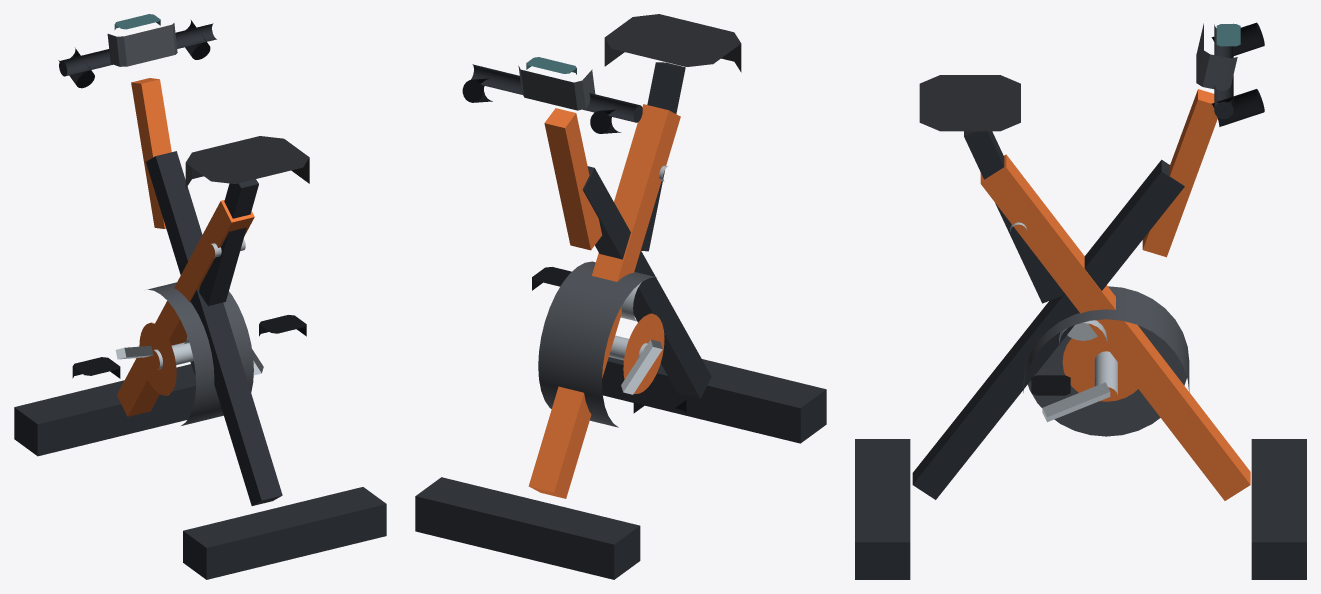
The model's file is current-fold-bike.glb.
3 renders of one model, left to right at view 1: azimuth 30°, elevation 25°; view 2: azimuth 150°, elevation 25°; view 3: azimuth 270°, elevation 25°, orthographic. The views are drawn at different scales.
Visible parts, largest first — view 1: Graphite powder coat parts, Burnt orange folding frame parts, Flywheel housing parts, Saddle upholstery parts, Black rubber parts, Brushed hardware parts; view 2: Graphite powder coat parts, Burnt orange folding frame parts, Flywheel housing parts, Saddle upholstery parts, Black rubber parts, Brushed hardware parts, Console display parts; view 3: Graphite powder coat parts, Burnt orange folding frame parts, Flywheel housing parts, Saddle upholstery parts, Brushed hardware parts, Black rubber parts.
Part boxes in pixels (x1,y1,x2,y2): Graphite powder coat parts: (14, 23, 386, 579); Burnt orange folding frame parts: (117, 78, 254, 416); Flywheel housing parts: (107, 23, 253, 425); Saddle upholstery parts: (185, 136, 309, 188); Black rubber parts: (58, 19, 306, 378); Brushed hardware parts: (115, 239, 263, 375); Graphite powder coat parts: (415, 62, 826, 579); Burnt orange folding frame parts: (528, 104, 680, 498); Flywheel housing parts: (518, 65, 654, 427); Saddle upholstery parts: (604, 14, 741, 72); Black rubber parts: (462, 78, 686, 413); Brushed hardware parts: (609, 165, 667, 394); Console display parts: (526, 57, 576, 74); Graphite powder coat parts: (855, 23, 1306, 579); Burnt orange folding frame parts: (980, 89, 1250, 500); Flywheel housing parts: (1023, 23, 1237, 436); Saddle upholstery parts: (919, 75, 1020, 131); Brushed hardware parts: (1010, 222, 1117, 422); Black rubber parts: (1031, 22, 1264, 395).
Size of the model in its own units: 0.53 by 1.18 by 0.98.
